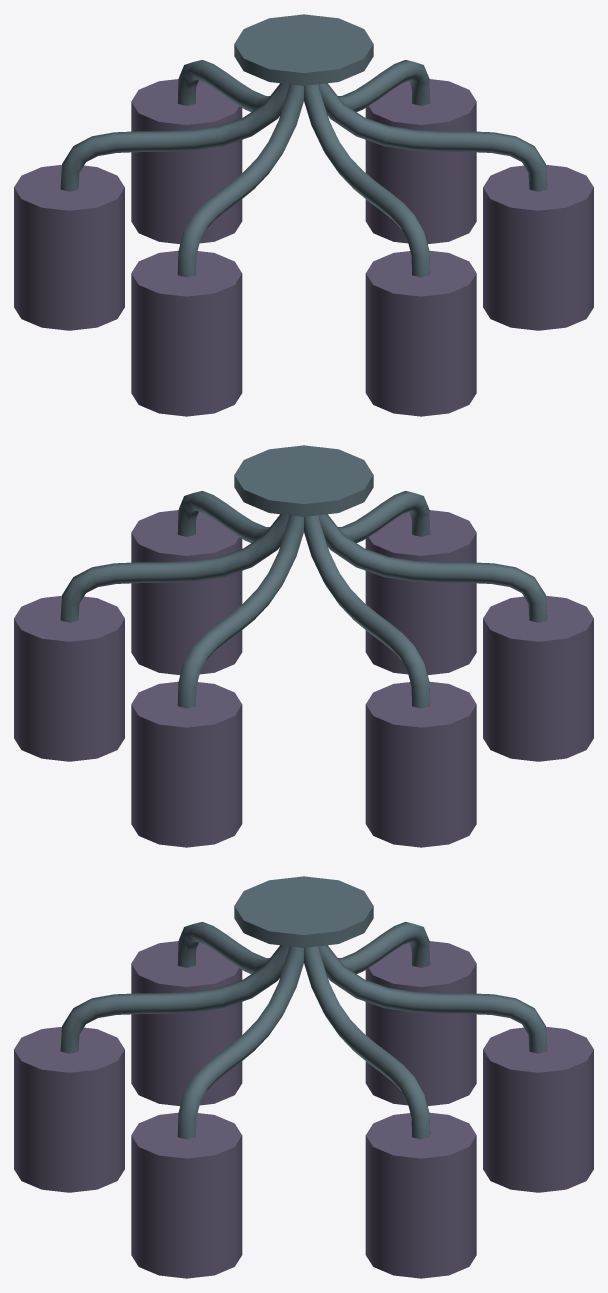
Rendered from lamp.normal.fbx.
The picture shows the model from 3 angles, top to bottom: view 1: azimuth 30°, elevation 25°; view 2: azimuth 150°, elevation 25°; view 3: azimuth 270°, elevation 25°; orthographic projection.
Visible parts, largest first — view 1: Sphere; view 2: Sphere; view 3: Sphere.
Boxes of the visible parts, x1,y1,x2,y2 form: Sphere: (14, 14, 593, 416); Sphere: (14, 445, 593, 847); Sphere: (14, 876, 593, 1278).
Size of the model in its own units: 74.32 by 41.79 by 83.35.
